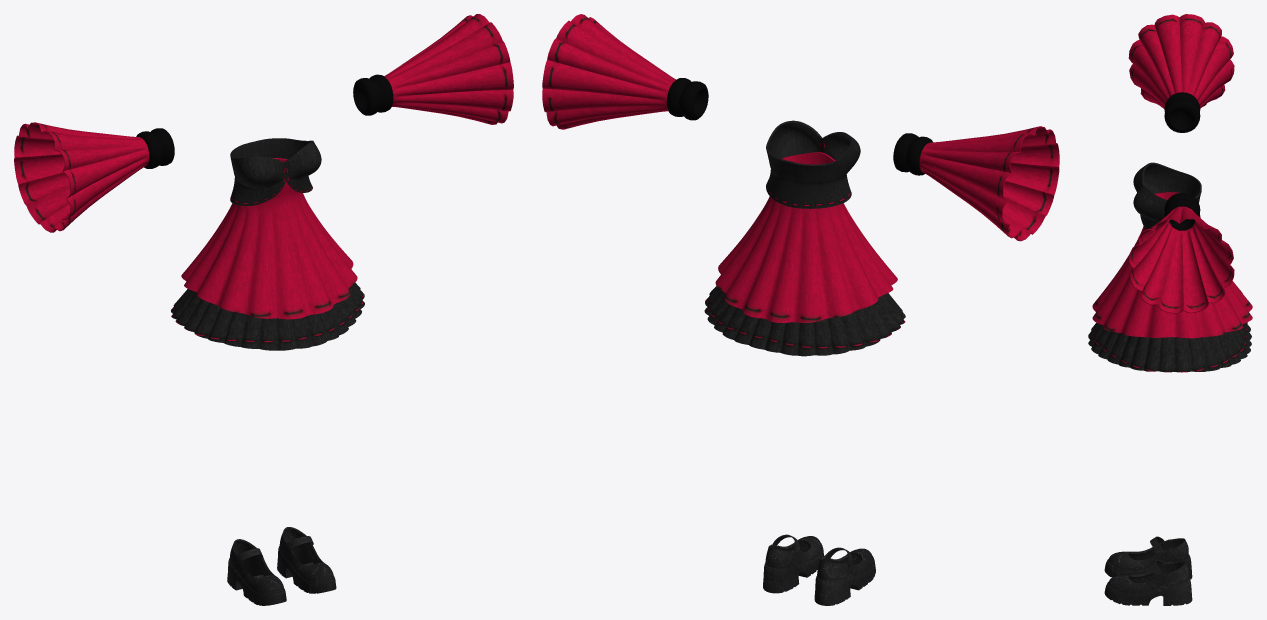
The model's file is DressForTexture.obj.
3 views of the same model, side by side, from view 1: azimuth 30°, elevation 25°; view 2: azimuth 150°, elevation 25°; view 3: azimuth 270°, elevation 25° (orthographic). The views are drawn at different scales.
Visible parts, largest first — view 1: Doll.Dress, Doll.ArmSkirt, Doll.Shoe; view 2: Doll.Dress, Doll.ArmSkirt, Doll.Shoe; view 3: Doll.ArmSkirt, Doll.Dress, Doll.Shoe.
Part boxes in pixels (x1=…): Doll.Dress: x1=171, y1=138, x2=364, y2=350; Doll.ArmSkirt: x1=14, y1=14, x2=513, y2=232; Doll.Shoe: x1=227, y1=527, x2=336, y2=605; Doll.Dress: x1=704, y1=120, x2=905, y2=356; Doll.ArmSkirt: x1=542, y1=14, x2=1059, y2=241; Doll.Shoe: x1=763, y1=534, x2=875, y2=605; Doll.ArmSkirt: x1=1128, y1=14, x2=1234, y2=313; Doll.Dress: x1=1088, y1=162, x2=1252, y2=372; Doll.Shoe: x1=1104, y1=536, x2=1192, y2=605.
Bounding box in the file's own units: 1.16 × 1.23 × 0.3895.
2 materials, 1 textured.
